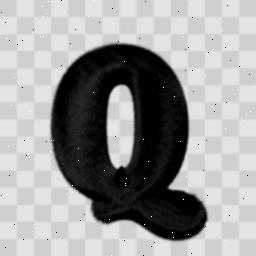q: (35, 32, 233, 250)
